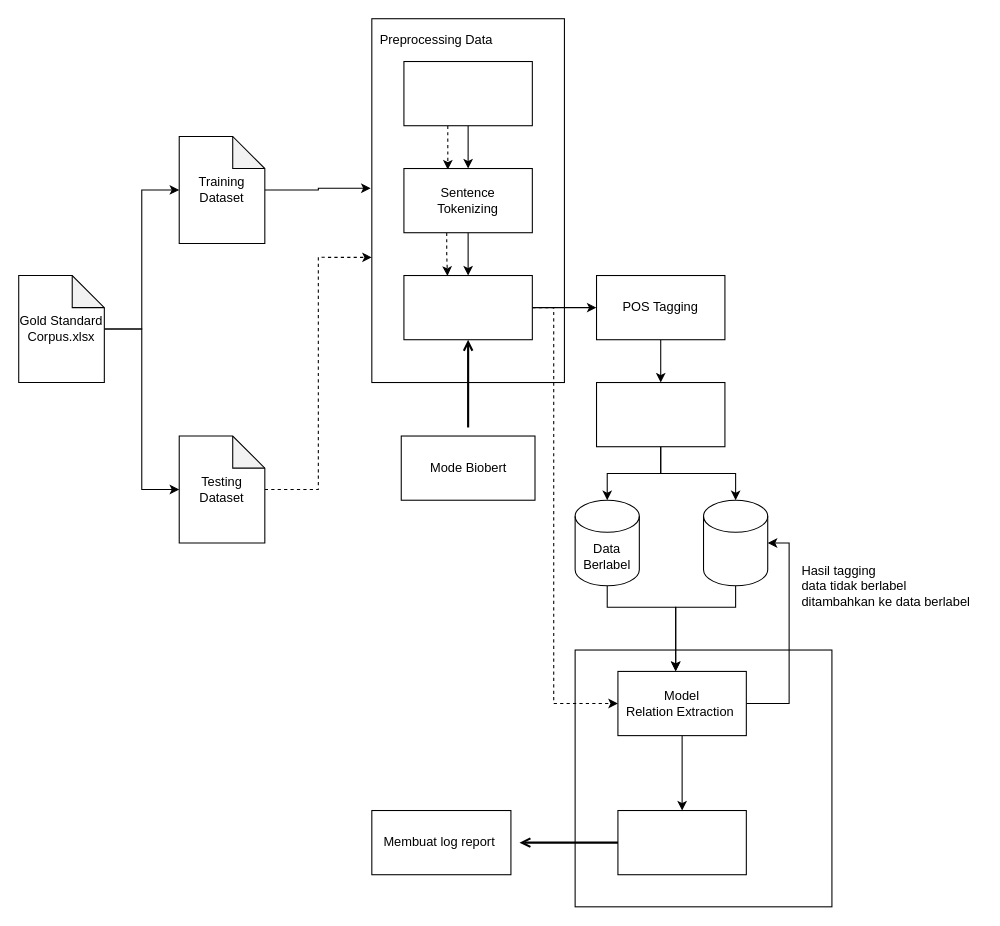
This 1000x926 diagram has some shape labels left out. Here are the shapes that lost their labels. From the top down, the centre of each, then its label:
At [467,93]: "Extraksi .xlsx".
At [467,307]: "Pengecekan Bahasa".
At [660,414]: "Entity Tagging".
At [735,542]: "Data Tidak Berlabel".
At [681,842]: "Output train dan validation, testing, predict, dan f-1 score".
